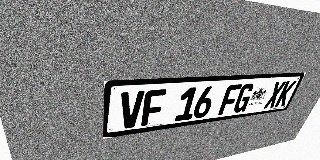1: (175, 87, 200, 121)
6: (192, 86, 217, 119)
F: (141, 89, 167, 126), (218, 84, 242, 115)
G: (232, 83, 256, 113)
K: (274, 80, 297, 107)
V: (119, 91, 145, 129)
X: (263, 81, 286, 109)
